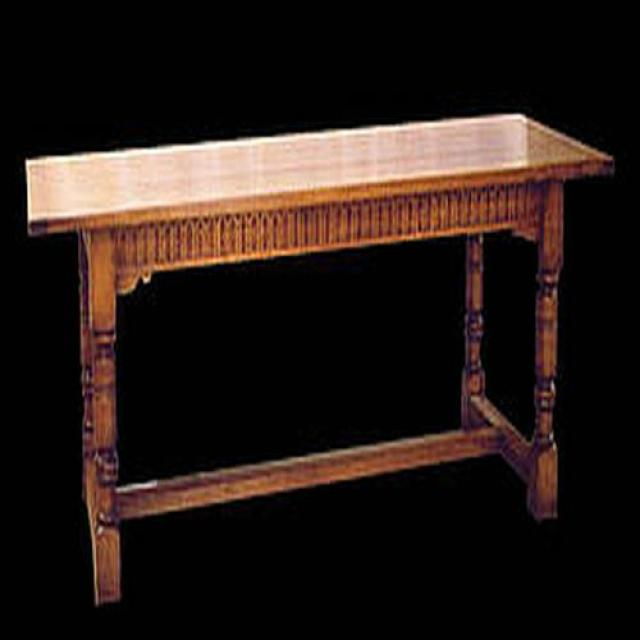table: (26, 115, 617, 607)
